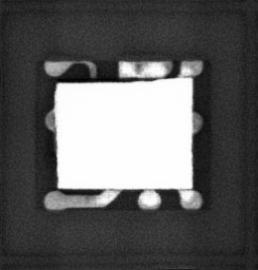DIE_BROKEN: (55, 75, 159, 85)
